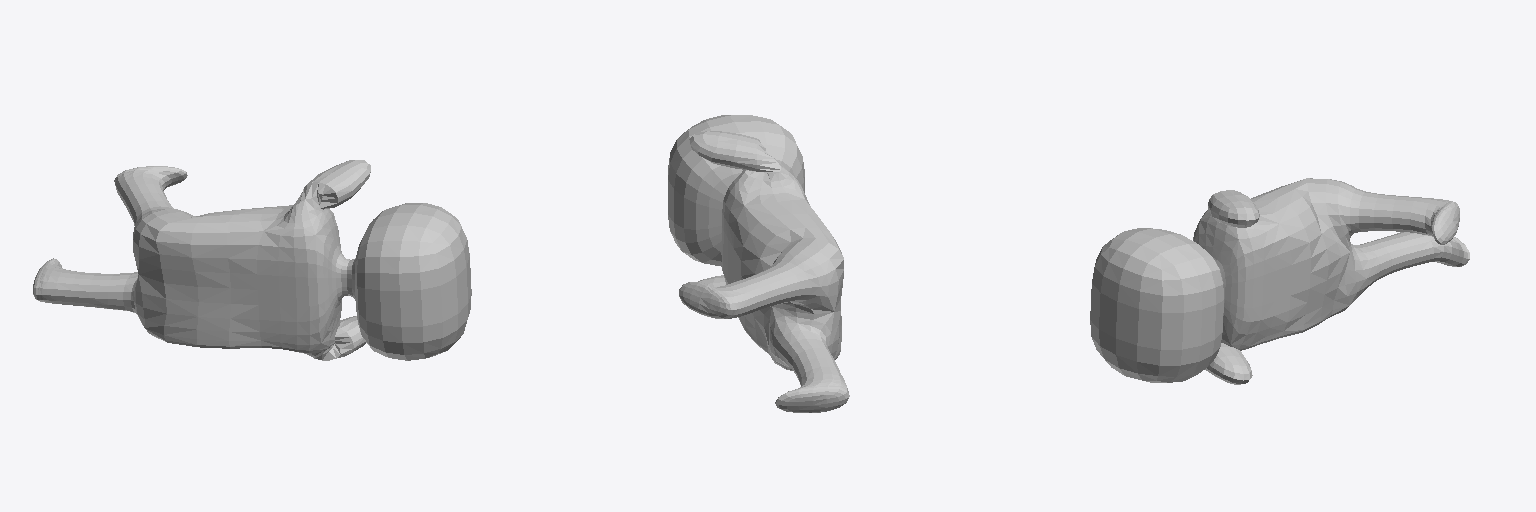
File: antman_push_10.obj
3 renders of one model, left to right at view 1: azimuth 30°, elevation 25°; view 2: azimuth 150°, elevation 25°; view 3: azimuth 270°, elevation 25°, orthographic.
Visible parts, largest first — view 1: Cube; view 2: Cube; view 3: Cube.
Boxes of the visible parts, x1=… form: Cube: x1=33, y1=160, x2=471, y2=360; Cube: x1=668, y1=115, x2=849, y2=412; Cube: x1=1090, y1=178, x2=1469, y2=384.
Size of the model in its own units: 1.49 by 0.8339 by 1.62.